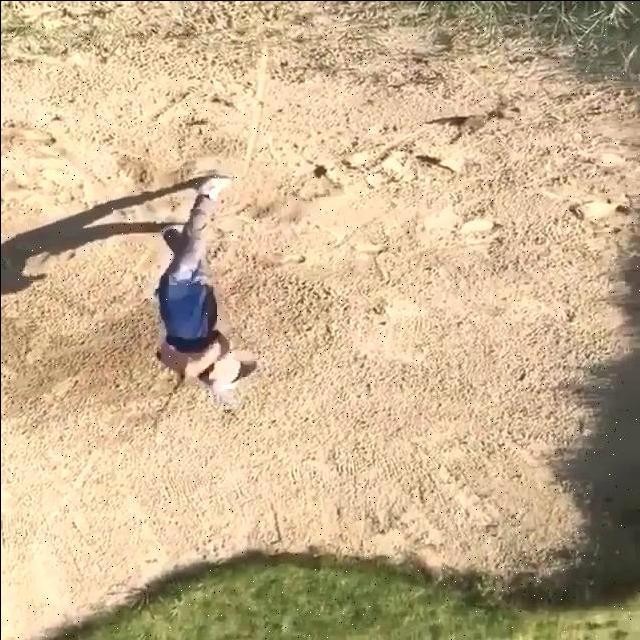ClubHandle: (144, 379, 184, 439)
